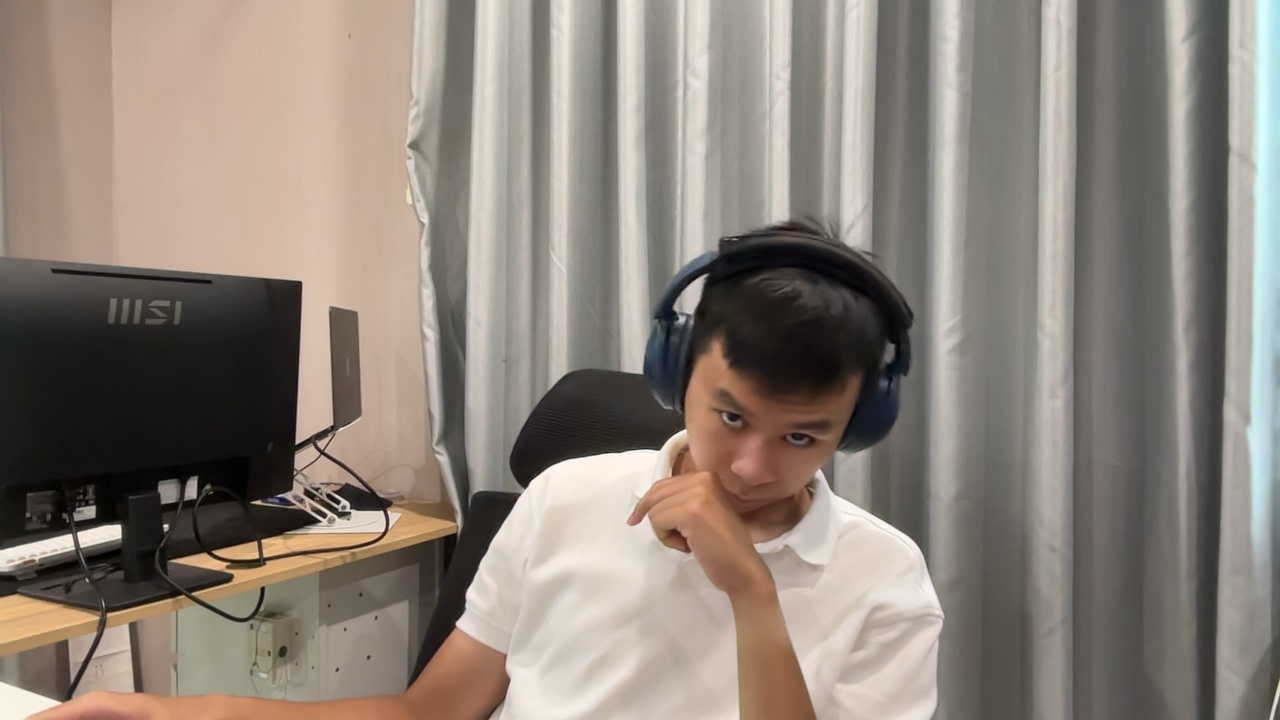over_ear: (642, 218, 915, 439)
